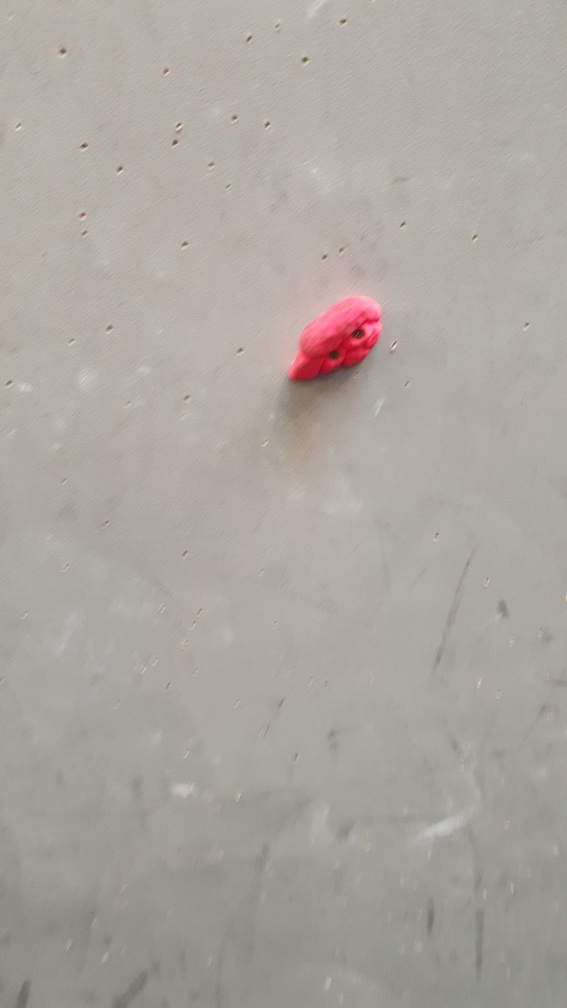Jug: (285, 291, 385, 387)
